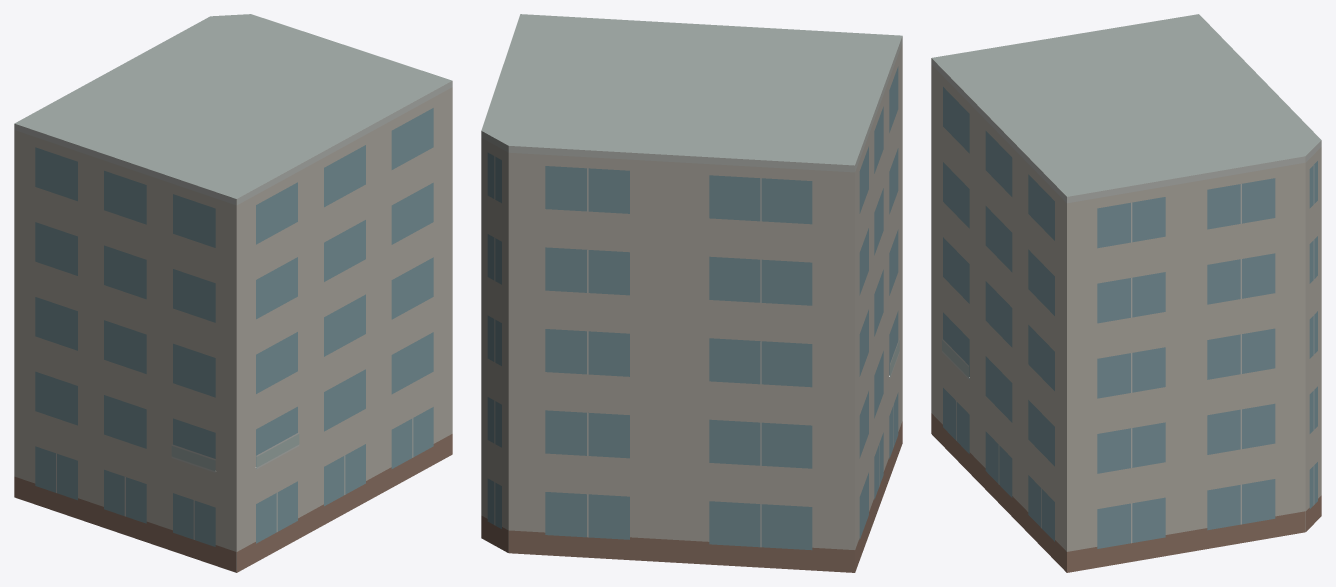
The model's file is survey-upis-32737490.glb.
3 renders of one model, left to right at view 1: azimuth 30°, elevation 25°; view 2: azimuth 150°, elevation 25°; view 3: azimuth 270°, elevation 25°, orthographic. The views are drawn at different scales.
Parts seen in each view (by area): view 1: survey-upis-32737490.tmp; view 2: survey-upis-32737490.tmp; view 3: survey-upis-32737490.tmp.
Part boxes in pixels (left/top/right/bottom): survey-upis-32737490.tmp: left=14, top=14, right=452, bottom=572; survey-upis-32737490.tmp: left=481, top=14, right=902, bottom=572; survey-upis-32737490.tmp: left=931, top=14, right=1321, bottom=572.
Size of the model in its own units: 14.93 by 14.3 by 13.46.
